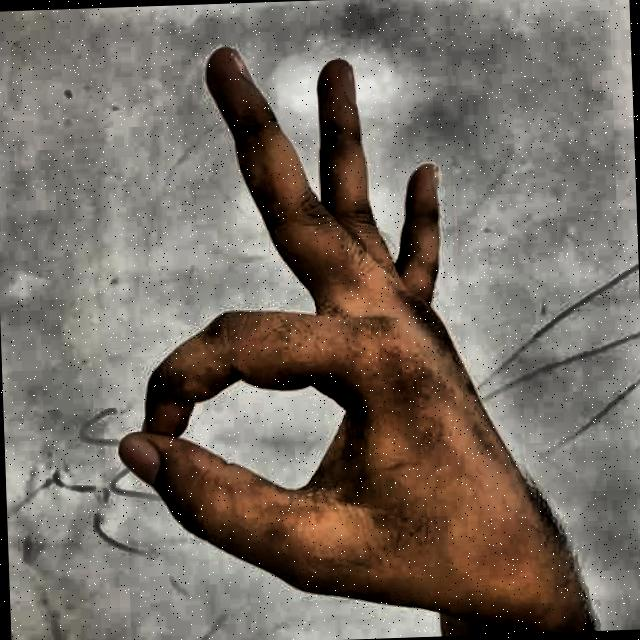Ca: (83, 17, 599, 640)
